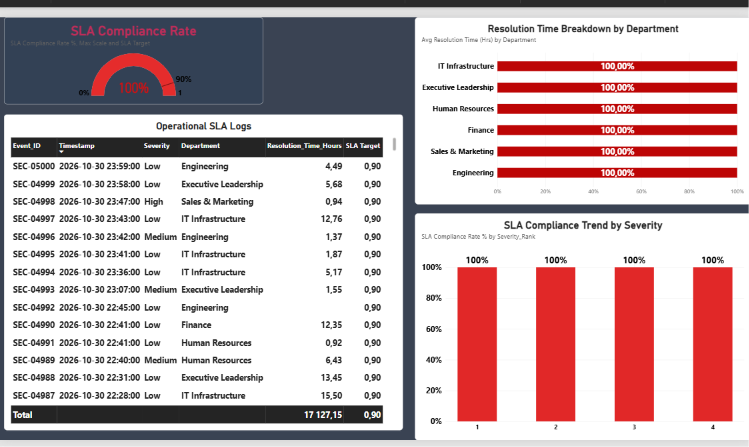

Layout of this report page (visuals, bound fields, positions):
{"tool":"powerbi","page":{"name":"Incident Response & Operational SLA Tracker","canvas":[1920,1080],"ordinal":2},"visuals":[{"type":"gauge","title":"SLA Compliance Rate ","fields":{"Y":["enterprise_security_logs.SLA Compliance Rate %"],"MaxValue":["enterprise_security_logs.Max Scale"],"TargetValue":["enterprise_security_logs.SLA Target"]},"box":[10.2,0,661.9,222.3],"z":0},{"type":"clusteredColumnChart","title":"SLA Compliance Trend by Severity","fields":{"Y":["enterprise_security_logs.SLA Compliance Rate %"],"Category":["enterprise_security_logs.Severity_Rank"]},"box":[1060.5,500.9,858.6,580.1],"z":1000},{"type":"hundredPercentStackedBarChart","title":" Resolution Time Breakdown by Department","fields":{"Category":["enterprise_security_logs.Department"],"Y":["enterprise_security_logs.Avg Resolution Time (Hrs)"]},"box":[1060.5,0,858.6,477.9],"z":1001},{"type":"tableEx","title":"Operational SLA Logs","fields":{"Values":["enterprise_security_logs.Event_ID","enterprise_security_logs.Timestamp","enterprise_security_logs.Severity","enterprise_security_logs.Department","Sum(enterprise_security_logs.Resolution_Time_Hours)","enterprise_security_logs.SLA Target"]},"box":[10.2,247.9,1019.6,807.5],"z":1002}]}

Visuals, with their boxes on the page's 1920x1080 design canvas (x1, y1, x2, y2). These are canvas units, not pixel positions in the 749x447 screenshot, which may show the page scaled, cropped or inside an application window:
"SLA Compliance Rate " gauge: (10,0,672,222)
"SLA Compliance Trend by Severity" clusteredColumnChart: (1060,501,1919,1081)
" Resolution Time Breakdown by Department" hundredPercentStackedBarChart: (1060,0,1919,478)
"Operational SLA Logs" tableEx: (10,248,1030,1055)
